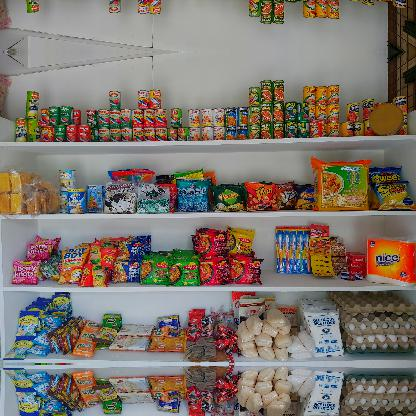Lady-s-Choice: (368, 103, 404, 135)
